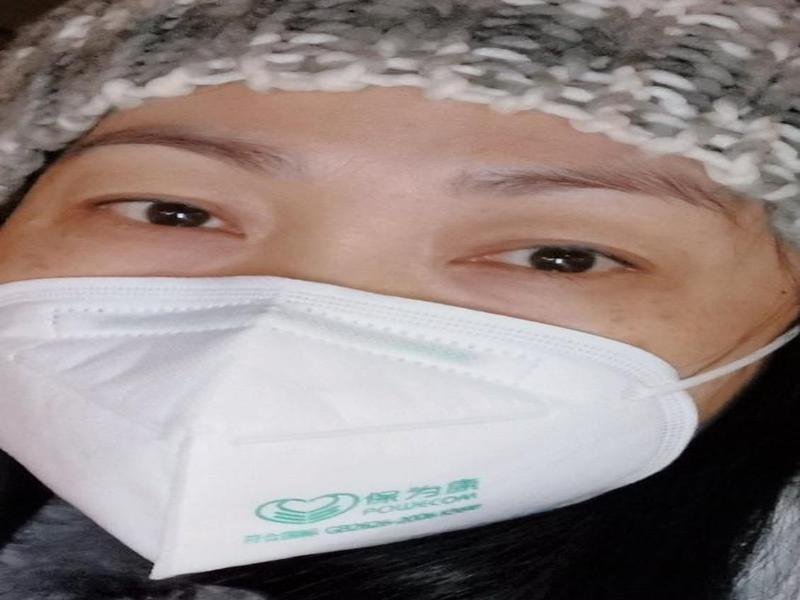with_mask: (1, 89, 796, 582)
